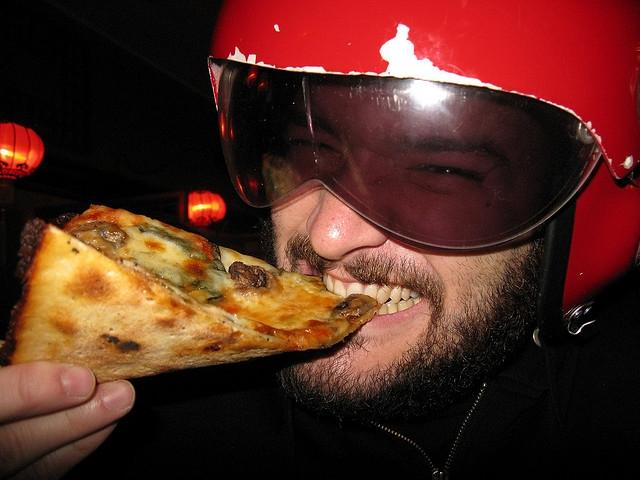mushroom: (134, 224, 208, 262), (66, 220, 130, 250), (322, 293, 378, 321), (228, 261, 270, 289), (212, 259, 226, 272)
